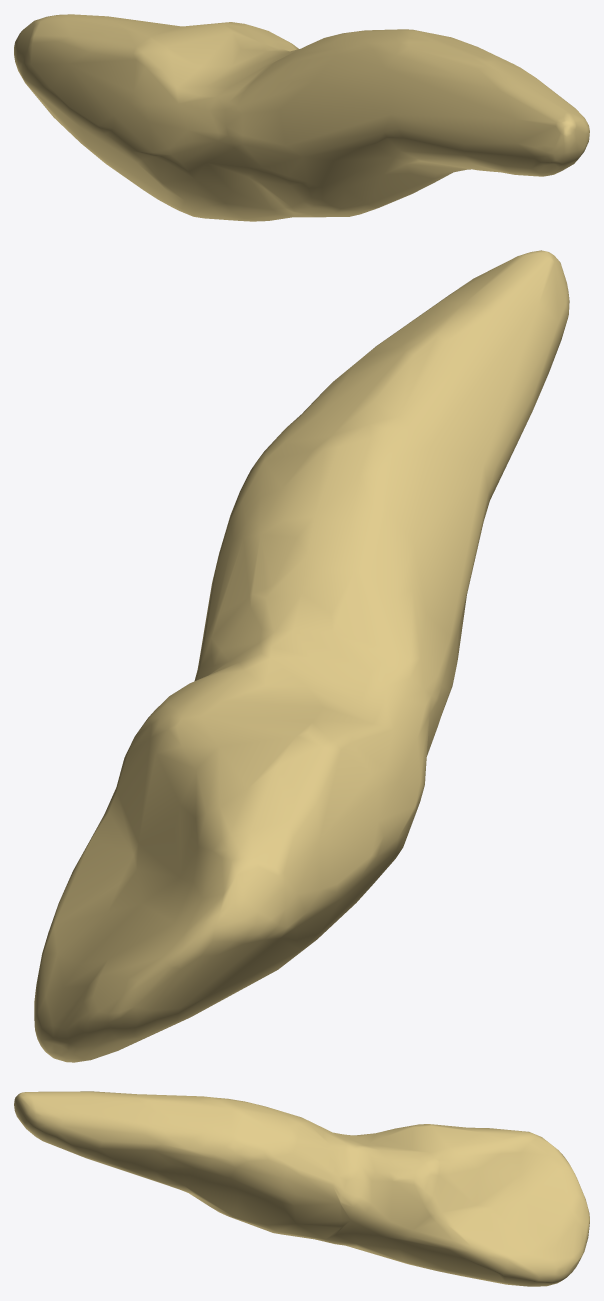
The picture shows the model from 3 angles, top to bottom: view 1: azimuth 30°, elevation 25°; view 2: azimuth 150°, elevation 25°; view 3: azimuth 270°, elevation 25°; orthographic projection. The views are drawn at different scales.
Parts seen in each view (by area): view 1: 右侧上颌侧切牙; view 2: 右侧上颌侧切牙; view 3: 右侧上颌侧切牙.
Boxes of the visible parts, x1=… form: 右侧上颌侧切牙: x1=14, y1=14, x2=589, y2=221; 右侧上颌侧切牙: x1=34, y1=250, x2=569, y2=1062; 右侧上颌侧切牙: x1=14, y1=1091, x2=589, y2=1286.
Size of the model in its own units: 0.0138 by 0.0163 by 0.0416.
